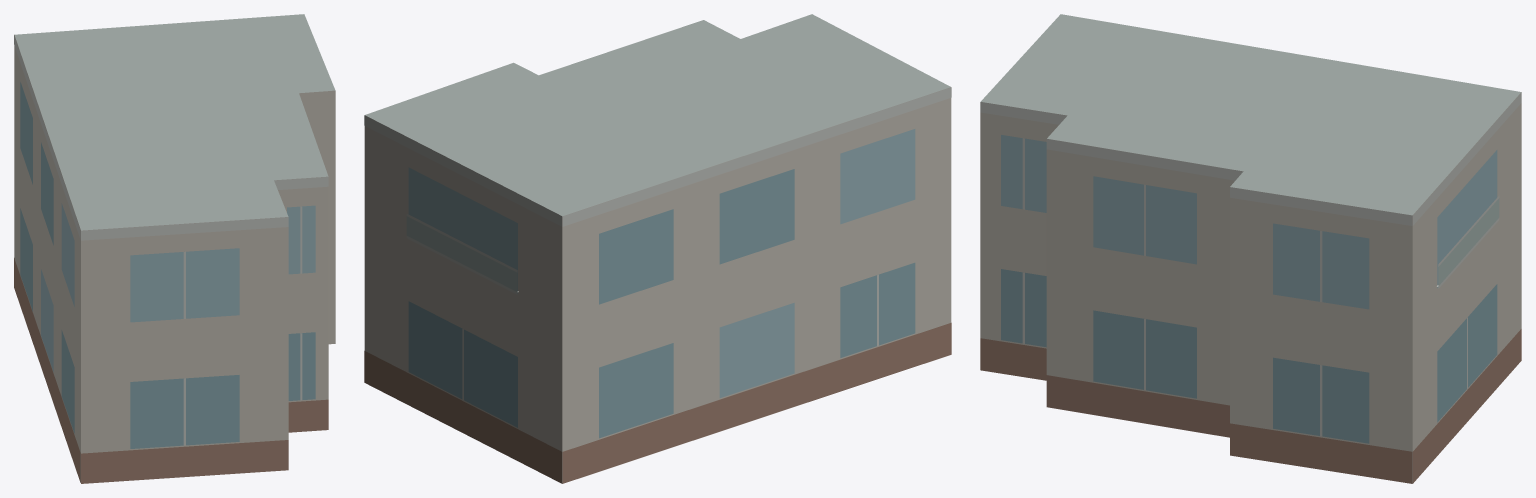
File: survey-upis-32818278.glb
3 renders of one model, left to right at view 1: azimuth 30°, elevation 25°; view 2: azimuth 150°, elevation 25°; view 3: azimuth 270°, elevation 25°, orthographic. The views are drawn at different scales.
Visible parts, largest first — view 1: survey-upis-32818278.tmp; view 2: survey-upis-32818278.tmp; view 3: survey-upis-32818278.tmp.
Part boxes in pixels (box(x1,y1,x2,y2)): survey-upis-32818278.tmp: box(14, 14, 335, 483); survey-upis-32818278.tmp: box(364, 14, 951, 483); survey-upis-32818278.tmp: box(980, 14, 1521, 483).
Size of the model in its own units: 9.82 by 6.1 by 11.15.
